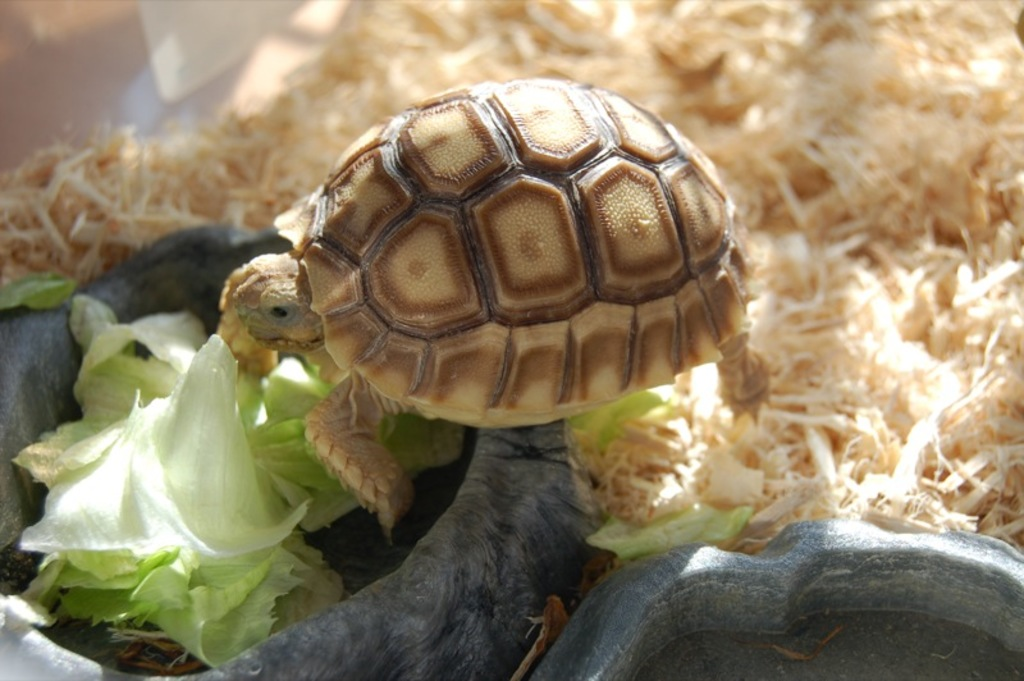Sea turtles: (216, 75, 773, 536)
